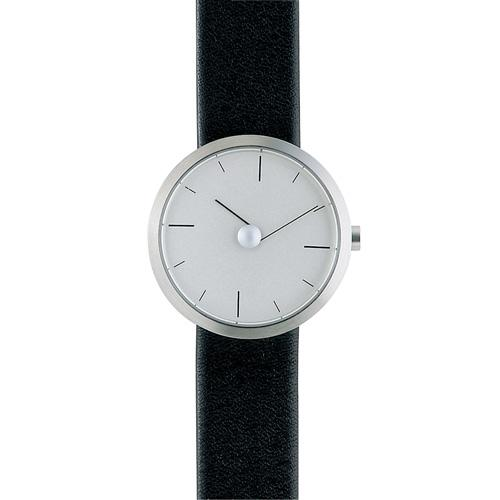watch: (157, 124, 346, 343)
